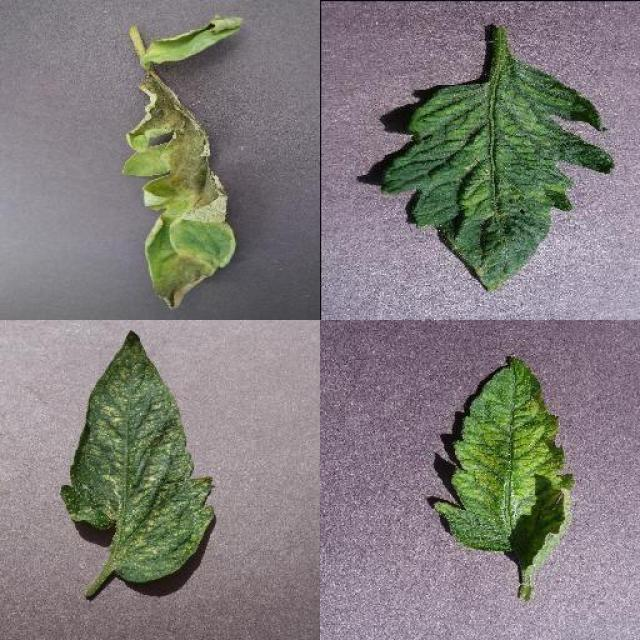Late Blight: (123, 69, 235, 310), (150, 16, 244, 64)
